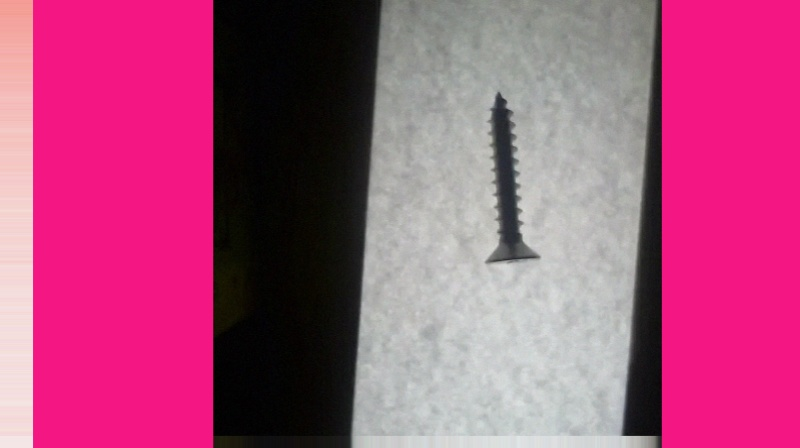S001: (478, 87, 540, 266)
